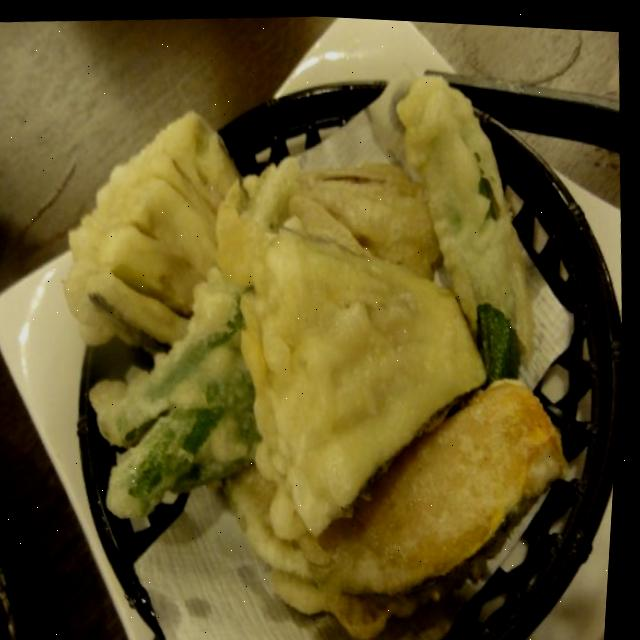蔬菜料理: (26, 61, 637, 640)
